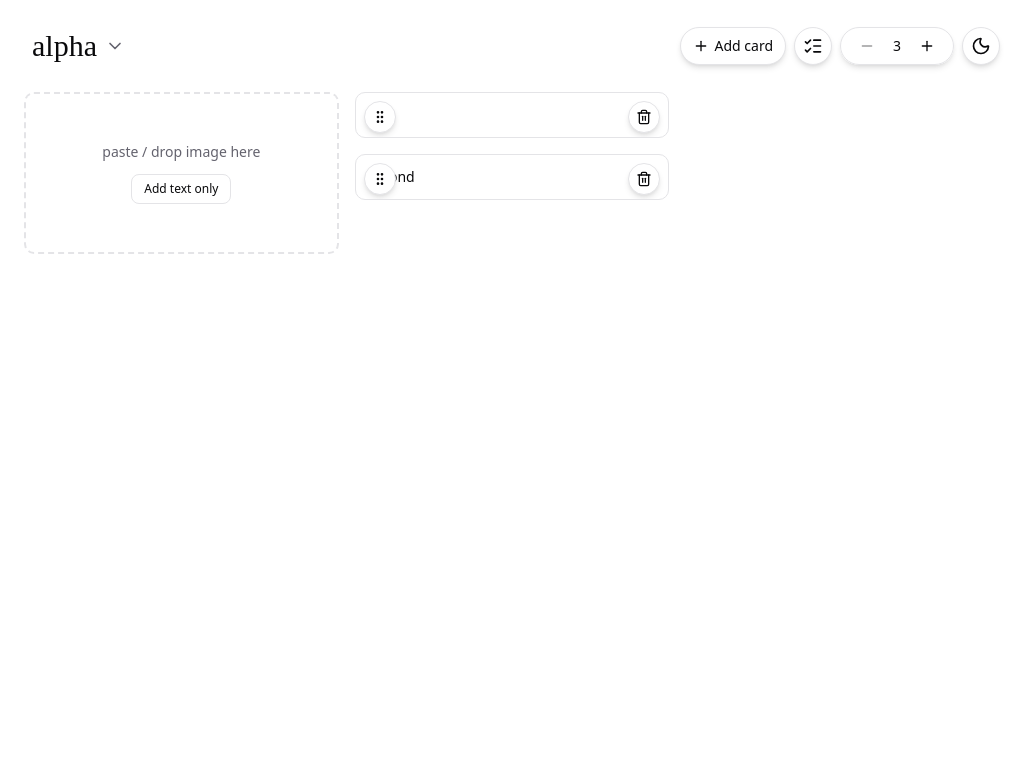
Test: the cards › deleting an item › asks first, and removes nothing when cancelled
Expected: the button with aria-label "Brand" reads "alpha", [24,24,133,68]
Step 1. Click the button named "Delete first" → x=644, y=117, box [628,101,660,133]
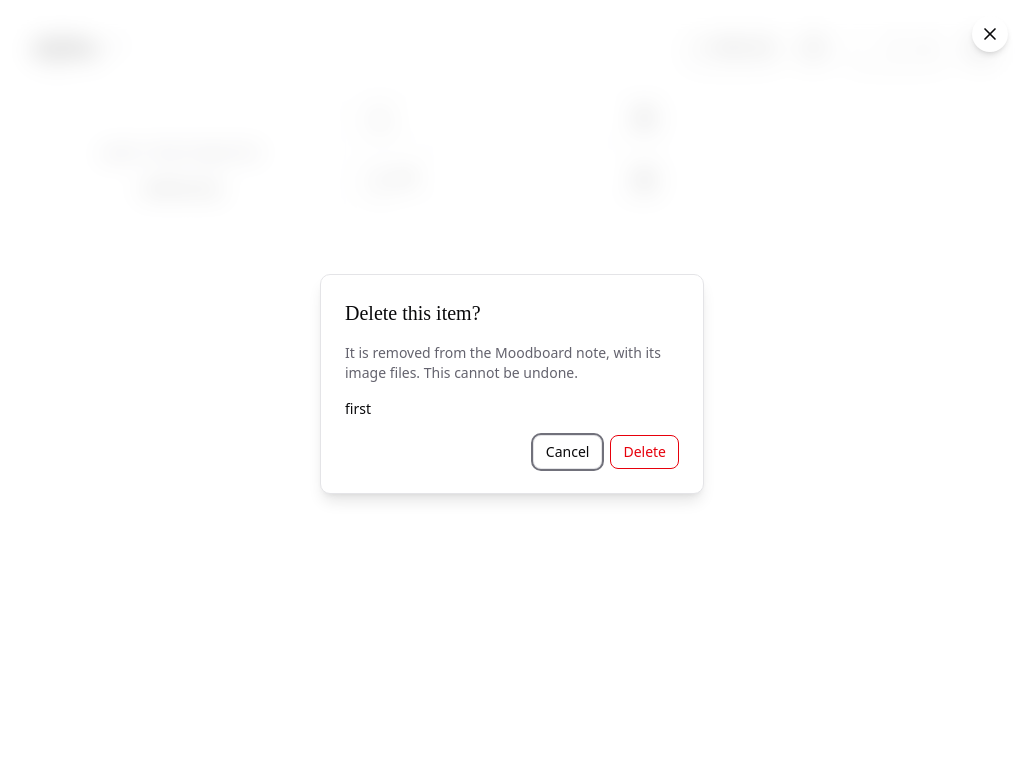
Expected: the list item "first" is shown, [345,399,371,418]
Step 2. Click the button "Cancel" → x=568, y=452, box [533,435,602,469]
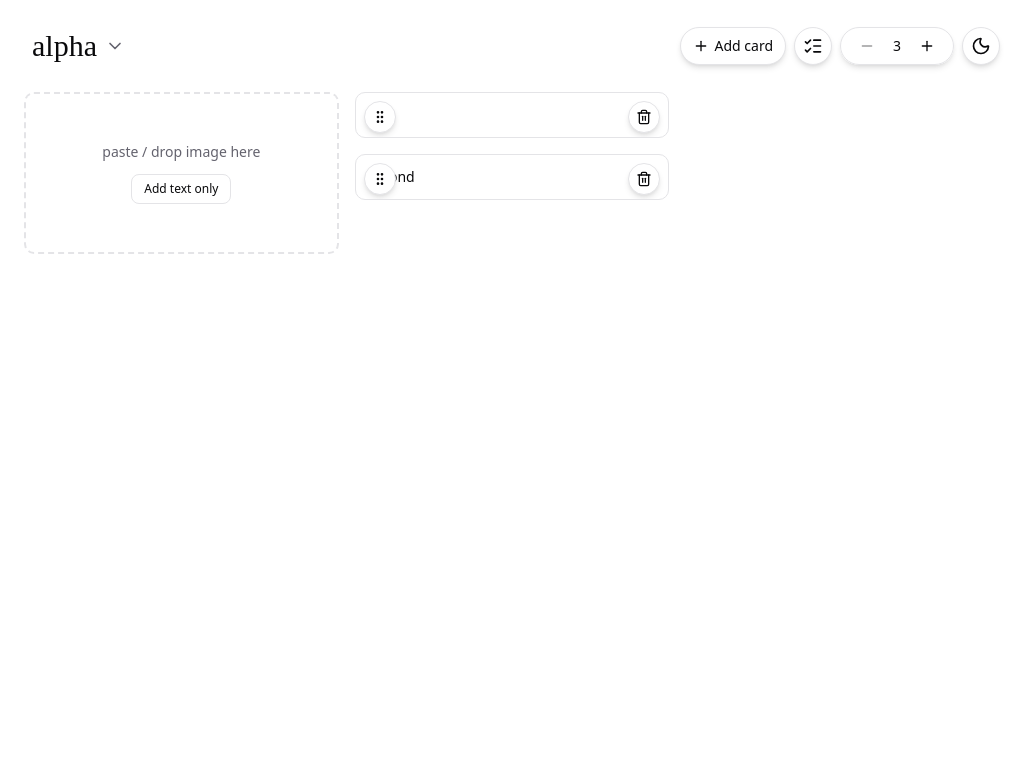
Expected: the text "first" is shown, [368,105,394,124]
Expected: the dialog is gone
